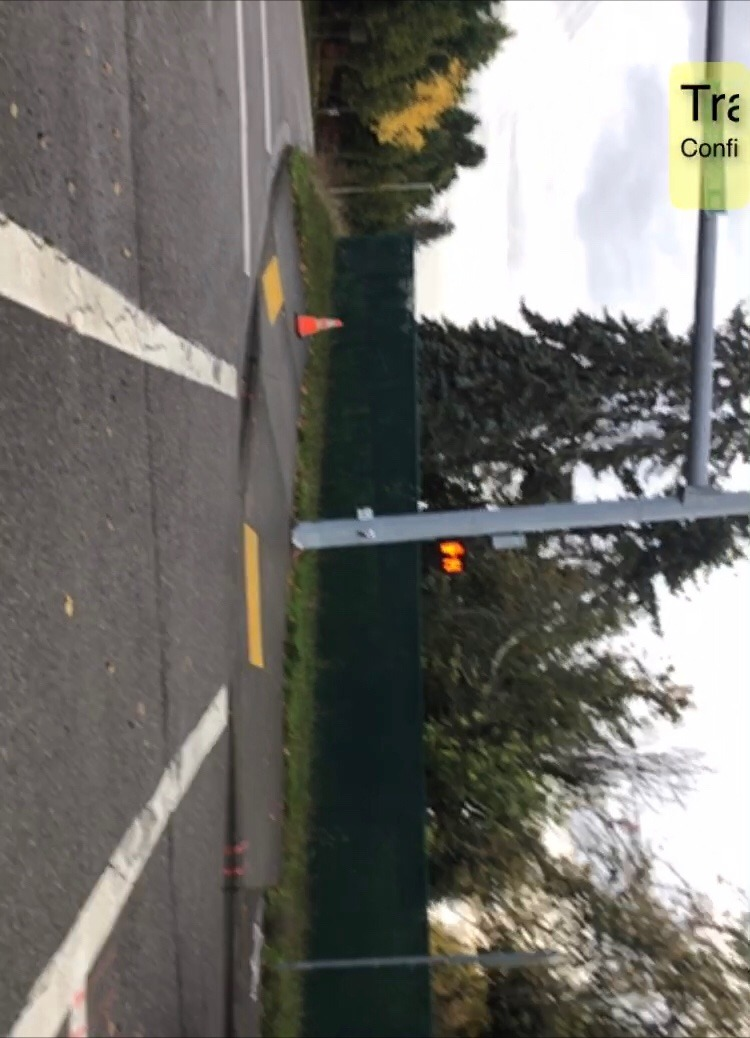crosswalk: (0, 265, 248, 1034)
pedestrian_stop: (432, 541, 467, 562)
